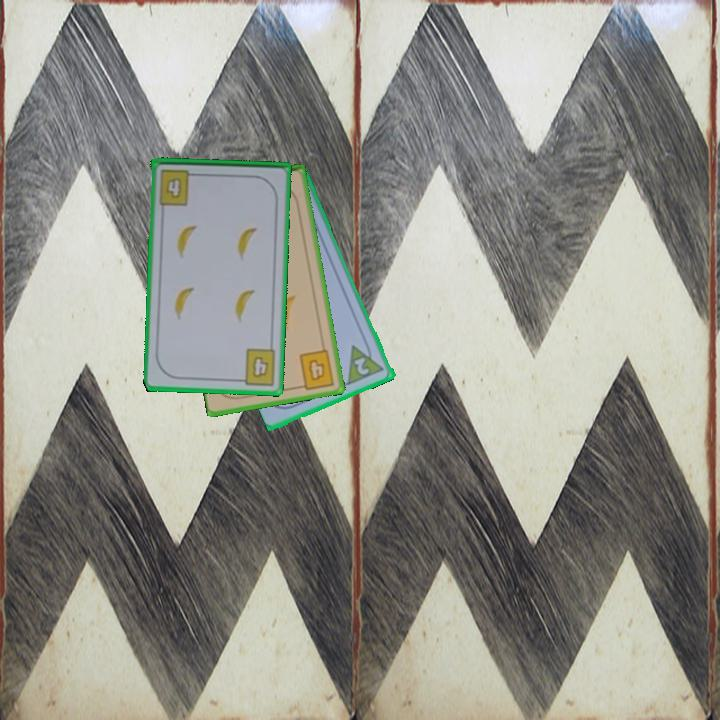2p: (351, 354, 373, 378)
4b: (234, 345, 279, 388), (295, 346, 337, 392), (156, 166, 200, 208)
